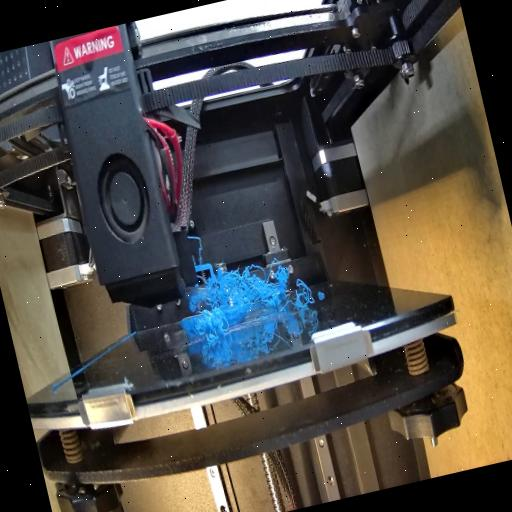spaghetti: (212, 258, 312, 326), (192, 298, 230, 348)
